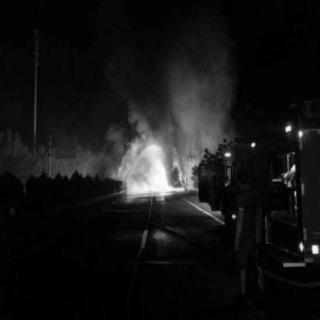Fire: (136, 150, 174, 198)
Smoke: (133, 97, 187, 141)
other: (280, 113, 308, 145), (292, 240, 318, 254), (150, 228, 168, 246), (232, 210, 238, 218)
